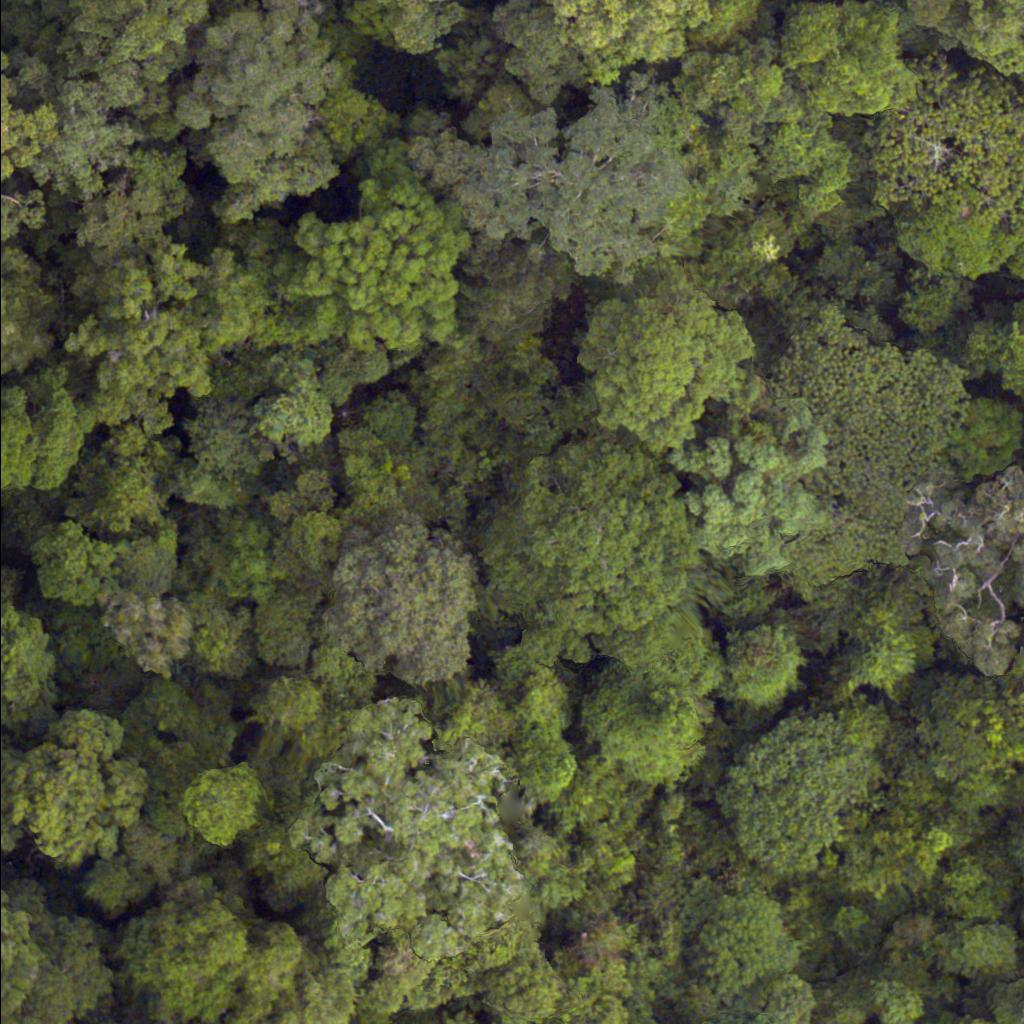crown: (309, 709, 543, 1015), (409, 88, 691, 279), (657, 53, 837, 308), (491, 426, 693, 652), (794, 340, 965, 592), (174, 0, 359, 227), (50, 242, 270, 432), (704, 696, 891, 911), (280, 166, 467, 359), (569, 281, 750, 457), (689, 397, 833, 591), (330, 509, 480, 685), (876, 56, 1023, 206), (915, 479, 1023, 681), (129, 888, 264, 1023), (43, 0, 198, 96), (784, 0, 913, 110), (88, 590, 214, 701), (172, 399, 280, 507), (63, 426, 166, 536), (192, 516, 279, 607), (937, 837, 1023, 926), (255, 357, 332, 447), (731, 620, 812, 703), (247, 593, 326, 665), (262, 668, 329, 749), (828, 907, 896, 972), (0, 401, 38, 502), (117, 538, 175, 595), (0, 200, 14, 245), (710, 1017, 729, 1023)
